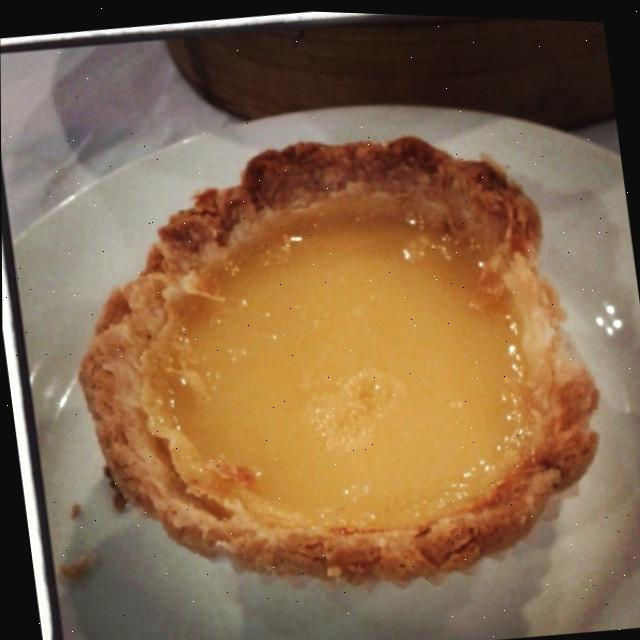炸货点心: (42, 86, 625, 638)
蛋糕甜品: (42, 86, 625, 638)
